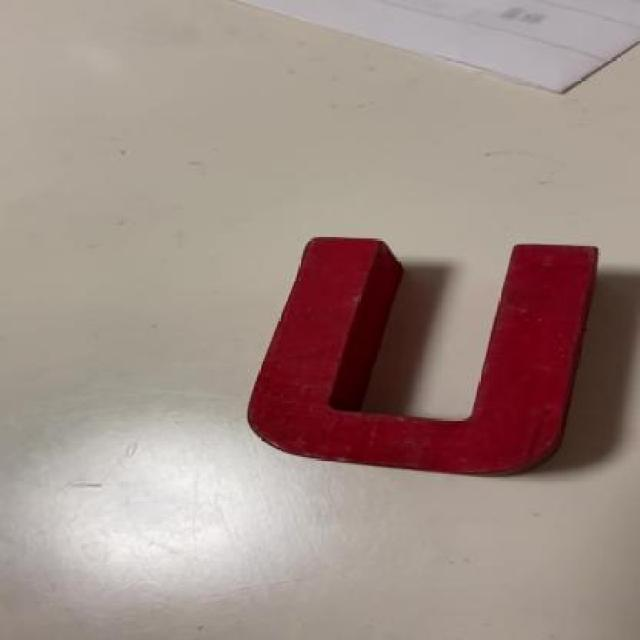U: (267, 234, 596, 468)
